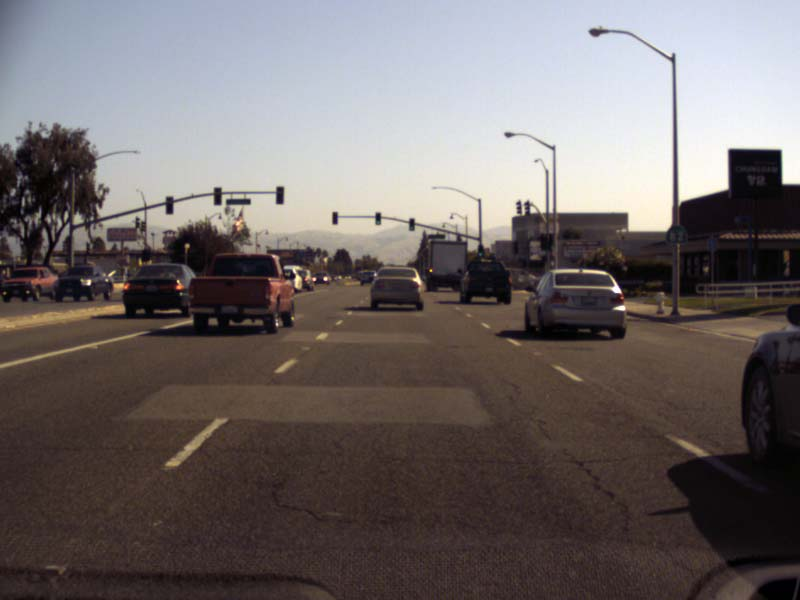Green: (332, 211, 338, 224), (375, 211, 380, 225), (409, 217, 414, 231), (478, 245, 483, 256)
